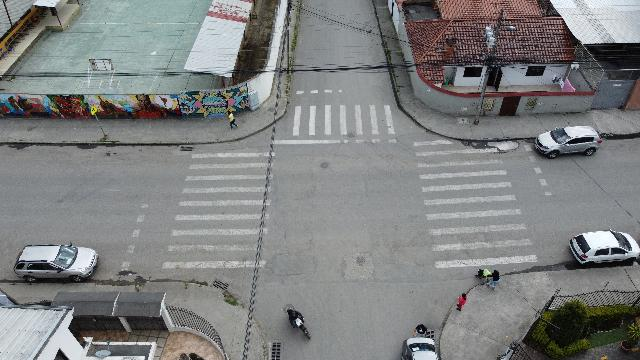Vehiculo: (13, 243, 98, 282), (569, 229, 639, 265), (534, 126, 602, 158), (402, 337, 438, 359)
